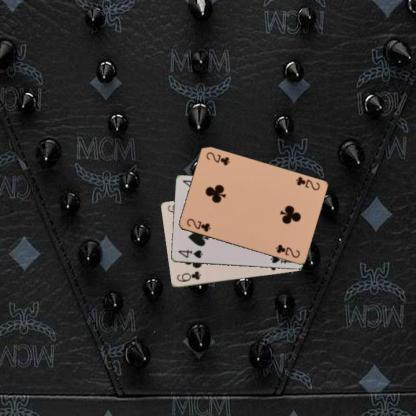2c: (293, 174, 321, 192), (184, 216, 211, 234)
4s: (176, 247, 203, 259)
6c: (174, 269, 202, 283)
